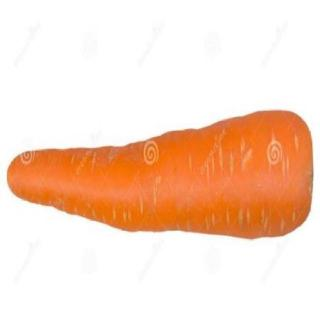carrot: (3, 103, 315, 255)
